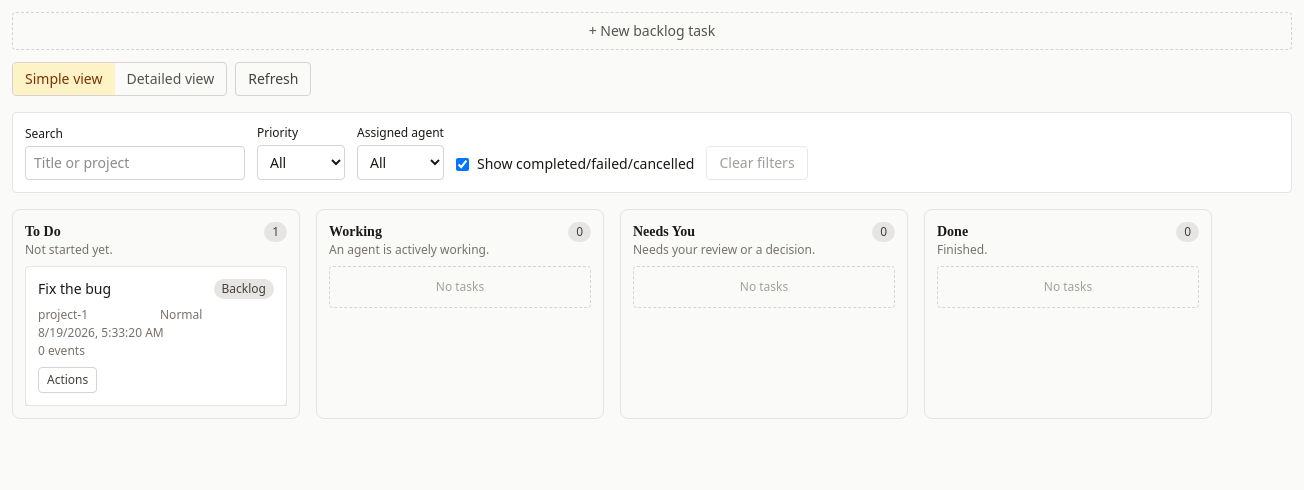
KanbanBoard › keeps existing cards visible and shows a warning when a refresh fails
This screenshot has width=1304, height=490.
expect the button "Fix the bug" is shown: met, box 38,279 -> 206,299
Click the button "Refresh" at (273, 79), box 235,62 -> 312,96
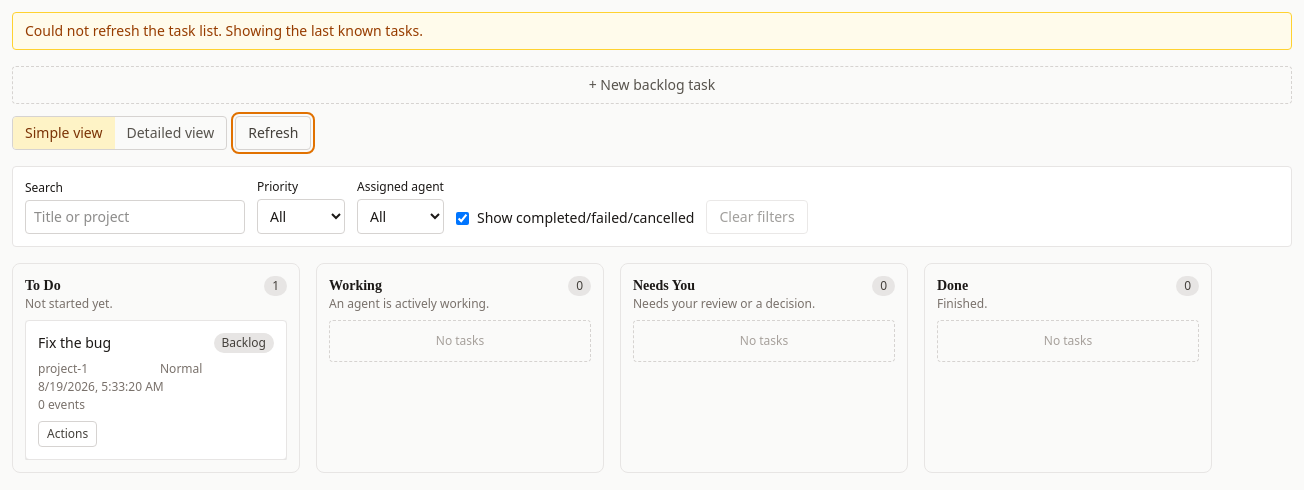
expect the button "Fix the bug" is shown: met, box 38,333 -> 206,353
expect the text "Could not refresh the task list. Showing the last known tasks." is shown: met, box 12,12 -> 1292,50
